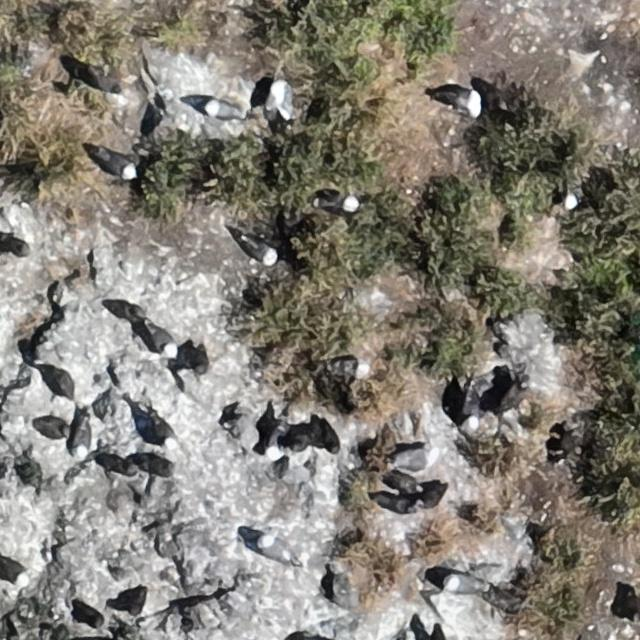umineko: (148, 408, 179, 451), (392, 448, 443, 468), (242, 238, 279, 262), (464, 382, 483, 428), (100, 154, 137, 177), (268, 80, 290, 116), (318, 193, 358, 212), (149, 326, 176, 354), (258, 539, 290, 562), (206, 100, 240, 119), (1, 560, 26, 584), (75, 423, 92, 458), (455, 91, 480, 114), (448, 576, 478, 592), (563, 189, 580, 209)
